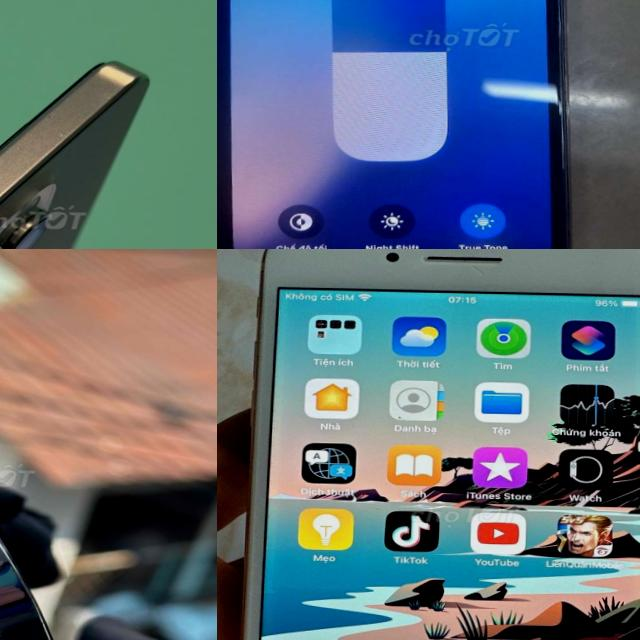gen_15: (0, 45, 160, 249)
gen_7_8: (242, 249, 640, 640)
gen_x_xs: (217, 0, 601, 249)
scratch: (466, 260, 500, 280)
